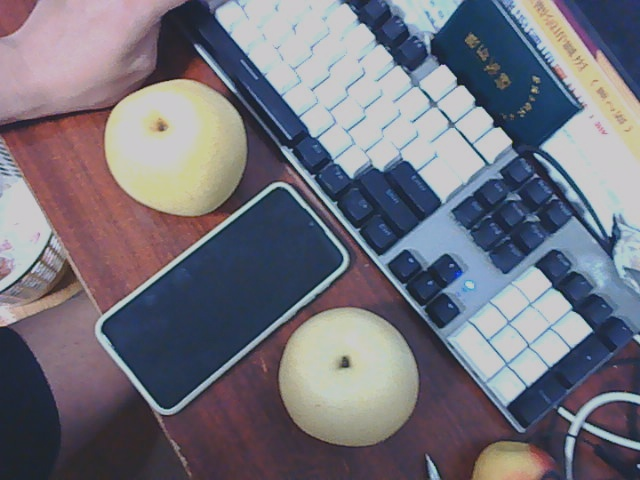pear: (280, 309, 425, 449), (105, 81, 251, 212)
